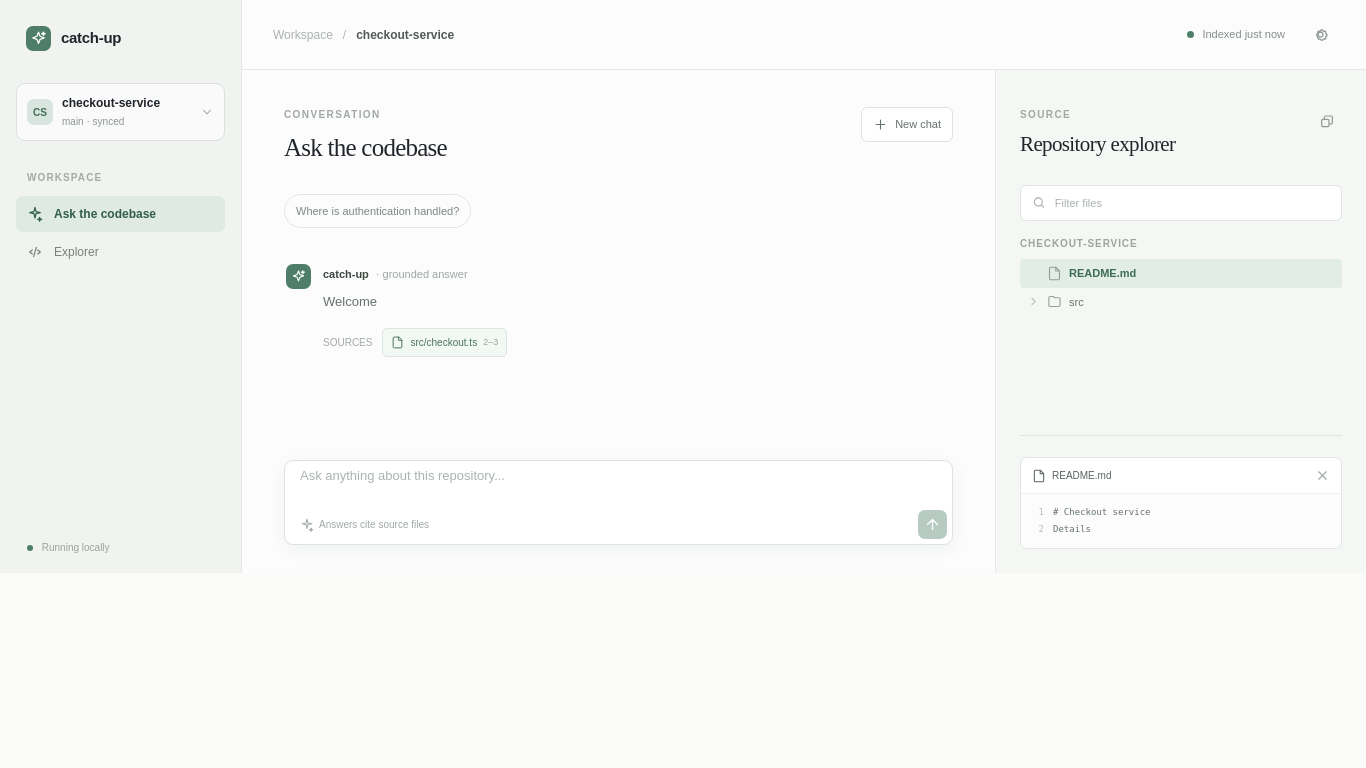
Scenario: Workspace › opens parent folders and loads a cited file
What coordinates should you click on to do the following:
click the button "src/checkout.ts 2–3"
I would click on:
 (445, 343)
Its box is x1=382 y1=328 x2=507 y2=357.
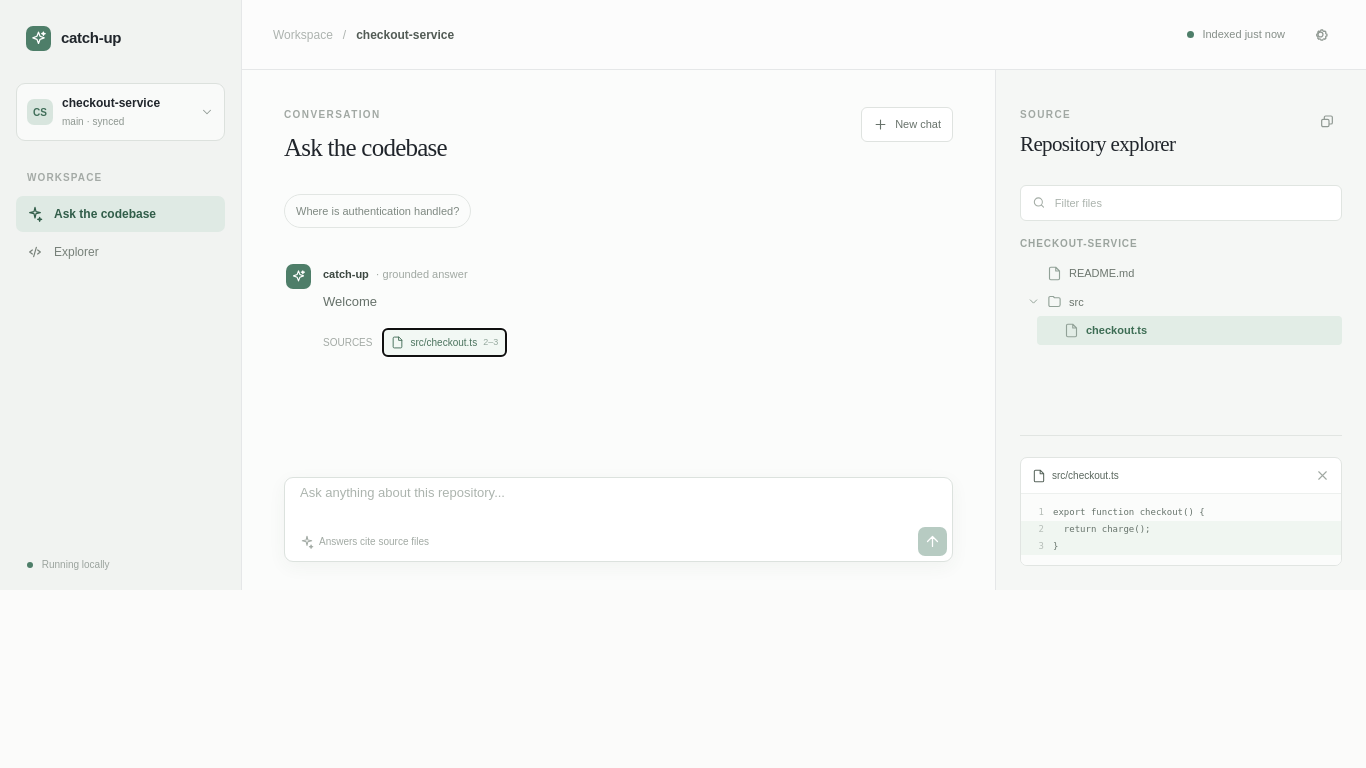
Check: the button "checkout.ts" is shown, box x1=1037 y1=316 x2=1342 y2=344
Check: the text "return charge();" is shown, box x1=1053 y1=524 x2=1150 y2=534
